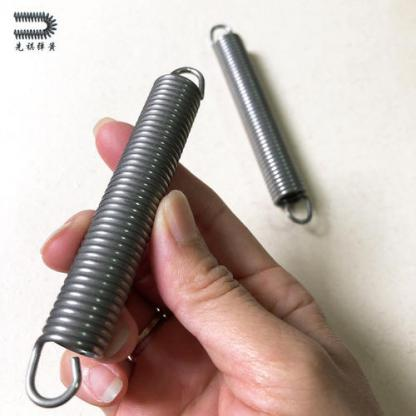FOD: (17, 63, 205, 412), (206, 17, 316, 228)
